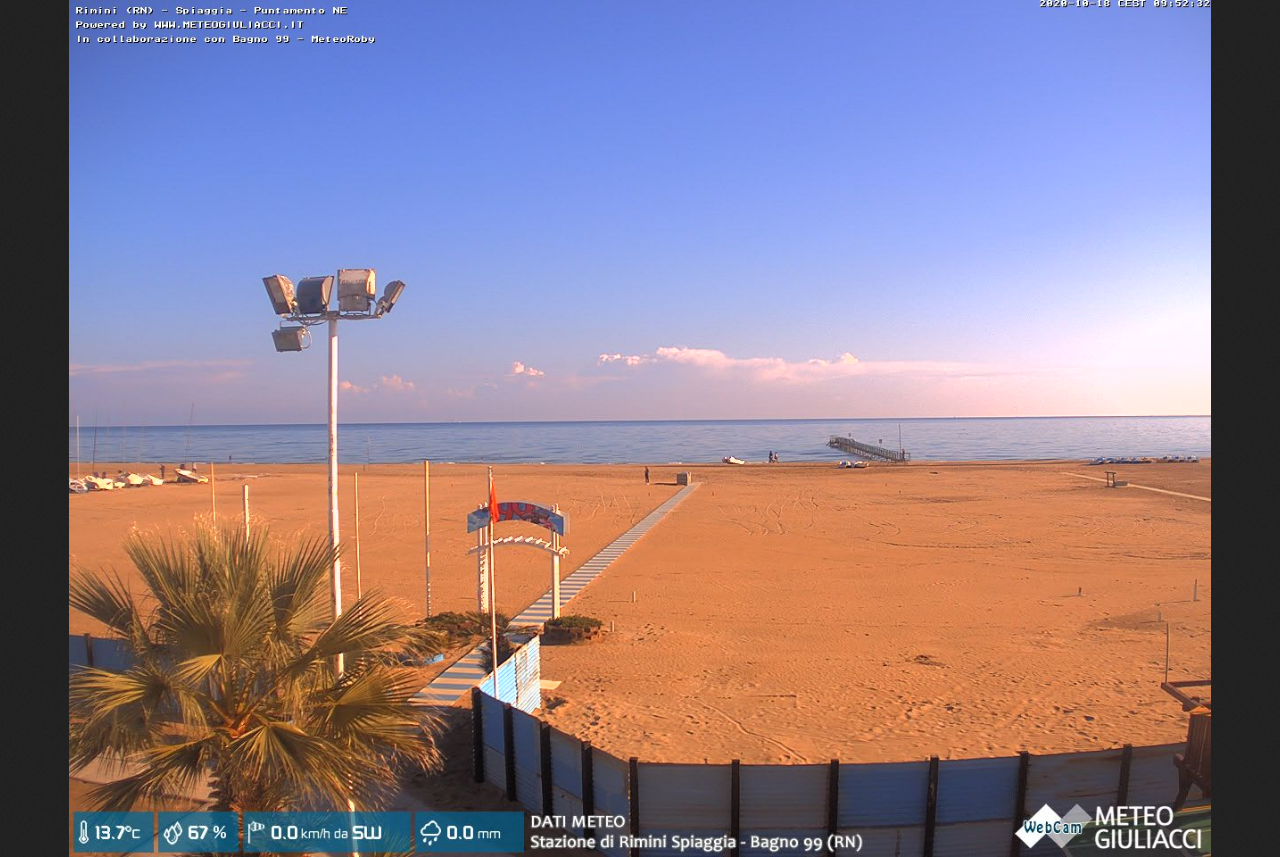no: (487, 465, 500, 520)
